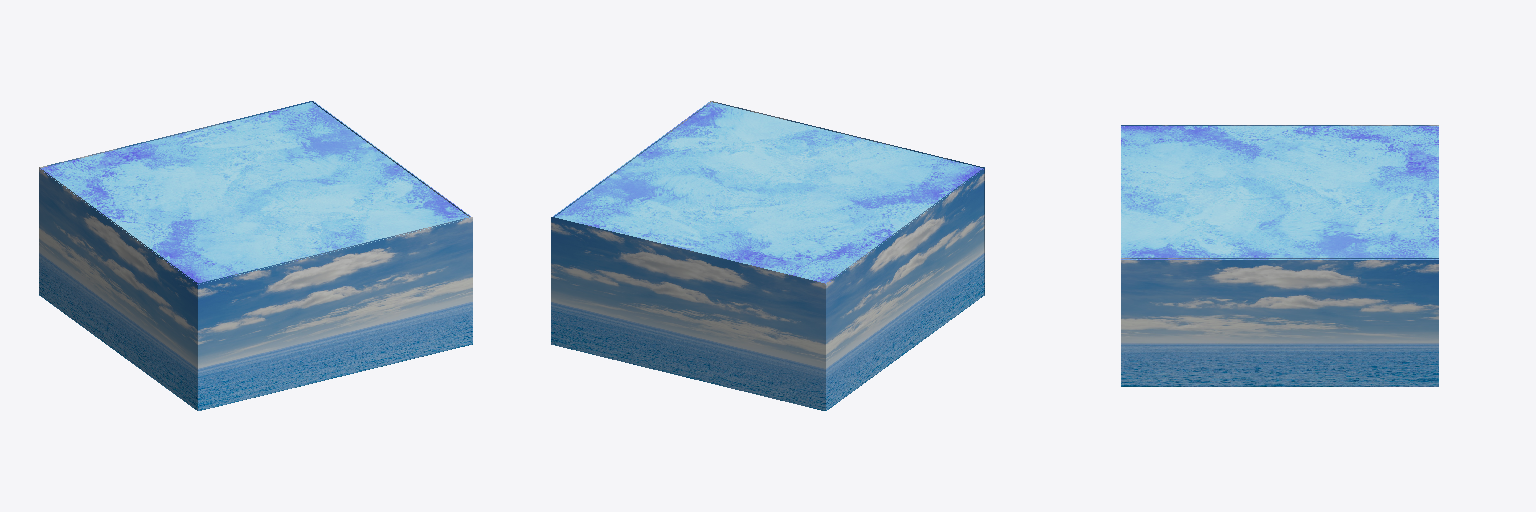
3 renders of one model, left to right at view 1: azimuth 30°, elevation 25°; view 2: azimuth 150°, elevation 25°; view 3: azimuth 270°, elevation 25°, orthographic.
Parts seen in each view (by area): view 1: pPlane13, pPlane12, pPlane10; view 2: pPlane13, pPlane9, pPlane10; view 3: pPlane13, pPlane11.
Boxes of the visible parts, box(x1,y1,x2,y2) form: pPlane13: box(40, 102, 470, 284); pPlane12: box(198, 217, 472, 410); pPlane10: box(39, 167, 197, 410); pPlane13: box(553, 102, 983, 284); pPlane9: box(551, 217, 825, 410); pPlane10: box(826, 167, 984, 410); pPlane13: box(1121, 126, 1438, 259); pPlane11: box(1121, 258, 1438, 385).
Bounding box in the file's own units: 4500 × 2000 × 4505.
Materials: 22 (15 with a texture image).